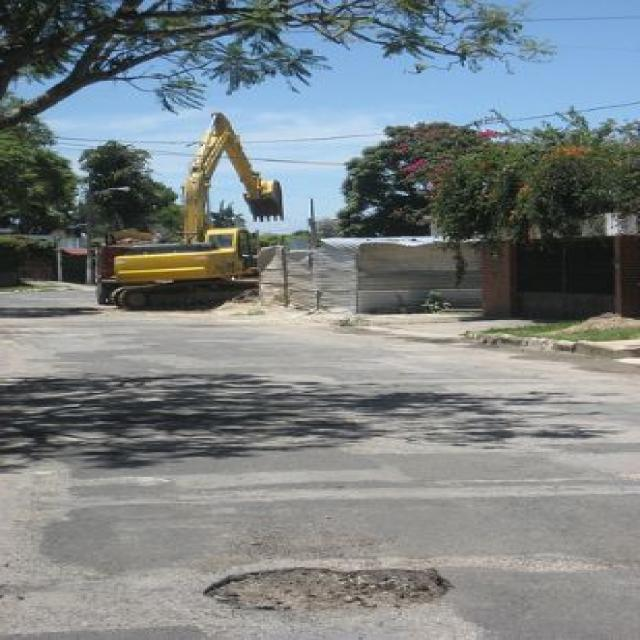pothole: (205, 559, 460, 617)
